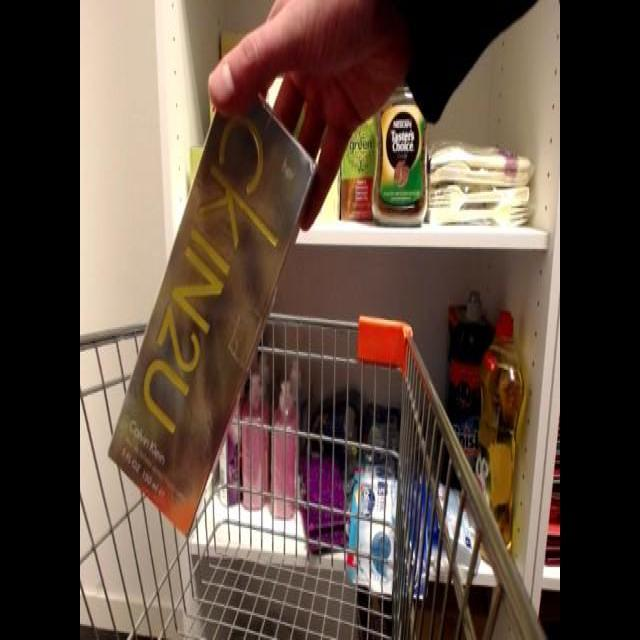Calvin Klein: (106, 61, 327, 538)
